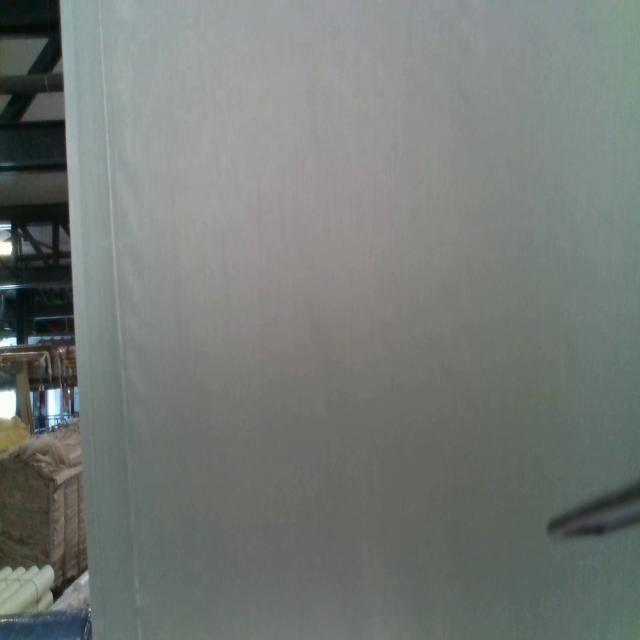crease: (98, 3, 143, 636)
